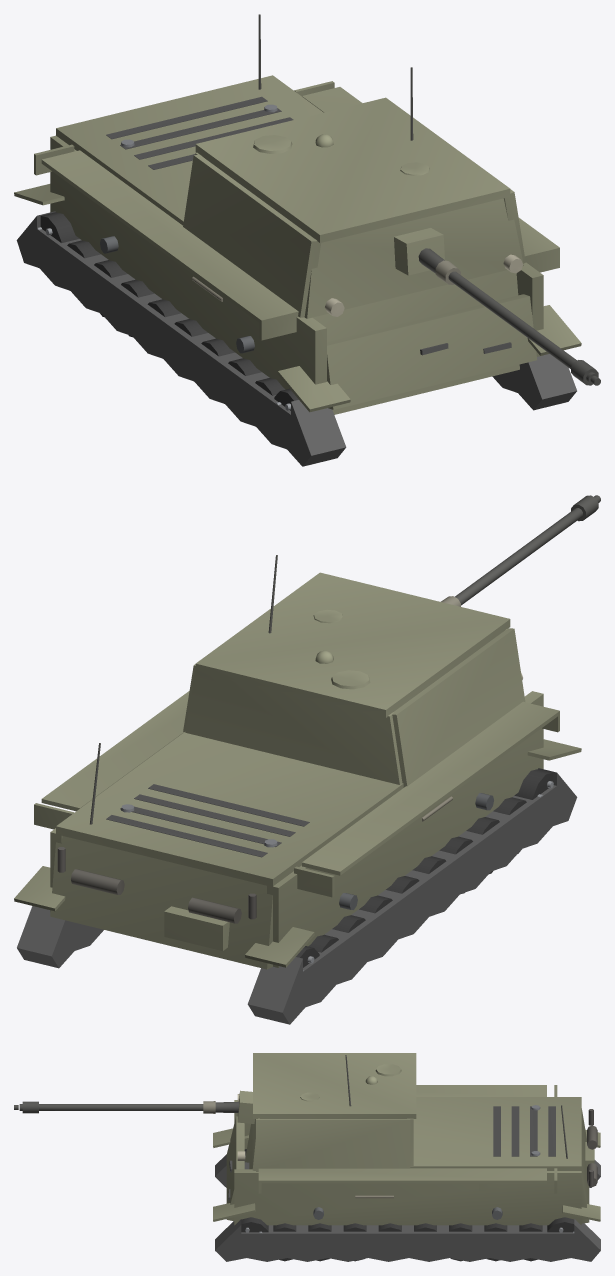
3 renders of one model, top to bottom at view 1: azimuth 30°, elevation 25°; view 2: azimuth 150°, elevation 25°; view 3: azimuth 270°, elevation 25°, orthographic. The views are drawn at different scales.
Visible parts, largest first — view 1: hullSide, turretRoof, tracks, hullTop, mantlet, lowerPlate, turretSide, glacis, barrel, wheel9; view 2: hullTop, hullSide, turretRoof, turretSide, tracks, hullRear, barrel, wheel8; view 3: hullSide, tracks, hullTop, turretRoof, turretSide, barrel, hullRear, lowerPlate, mantlet, wheel18, wheel19, glacis.
Boxes of the visible parts, <box> form: hullSide: <box>34,81,559,410</box>; turretRoof: <box>195,67,510,242</box>; tracks: <box>14,184,581,466</box>; hullTop: <box>56,75,323,225</box>; mantlet: <box>304,198,523,318</box>; lowerPlate: <box>327,294,537,409</box>; turretSide: <box>183,152,525,317</box>; glacis: <box>313,270,519,414</box>; barrel: <box>418,248,600,385</box>; wheel9: <box>37,212,79,243</box>; hullTop: <box>56,732,403,886</box>; hullSide: <box>34,672,559,967</box>; turretRoof: <box>195,555,510,717</box>; turretSide: <box>183,628,525,787</box>; tracks: <box>14,739,581,1024</box>; hullRear: <box>50,743,274,969</box>; barrel: <box>441,495,600,606</box>; wheel8: <box>514,769,553,799</box>; hullSide: <box>234,1085,581,1225</box>; tracks: <box>213,1128,600,1261</box>; hullTop: <box>410,1097,581,1170</box>; turretRoof: <box>253,1053,416,1118</box>; turretSide: <box>256,1118,413,1171</box>; barrel: <box>14,1101,239,1113</box>; hullRear: <box>561,1105,597,1223</box>; lowerPlate: <box>226,1116,244,1221</box>; mantlet: <box>237,1090,259,1170</box>; wheel18: <box>241,1217,268,1233</box>; wheel19: <box>547,1217,574,1233</box>; glacis: <box>228,1124,252,1200</box>.
Bounding box in the file's own units: 4.68 × 4.28 × 12.16.
